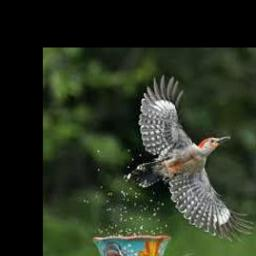Woodpecker: (129, 76, 254, 240)
